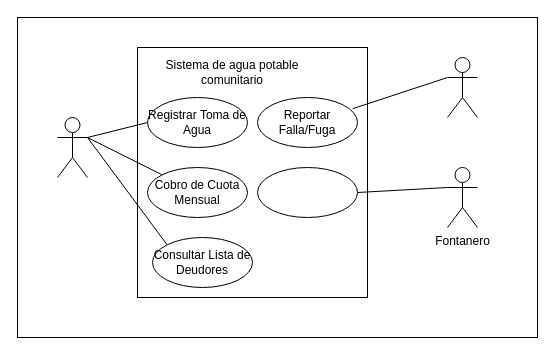
The diagram is 555 pixels wide and 355 high, and some of its shapes have lost their labels. Here are the shapes that lost their labels. From the top down, the box of each, then its label:
(446, 56, 478, 118): Usuario
(56, 116, 88, 178): Tesorero
(256, 166, 358, 218): Atender Reporte de Fuga
